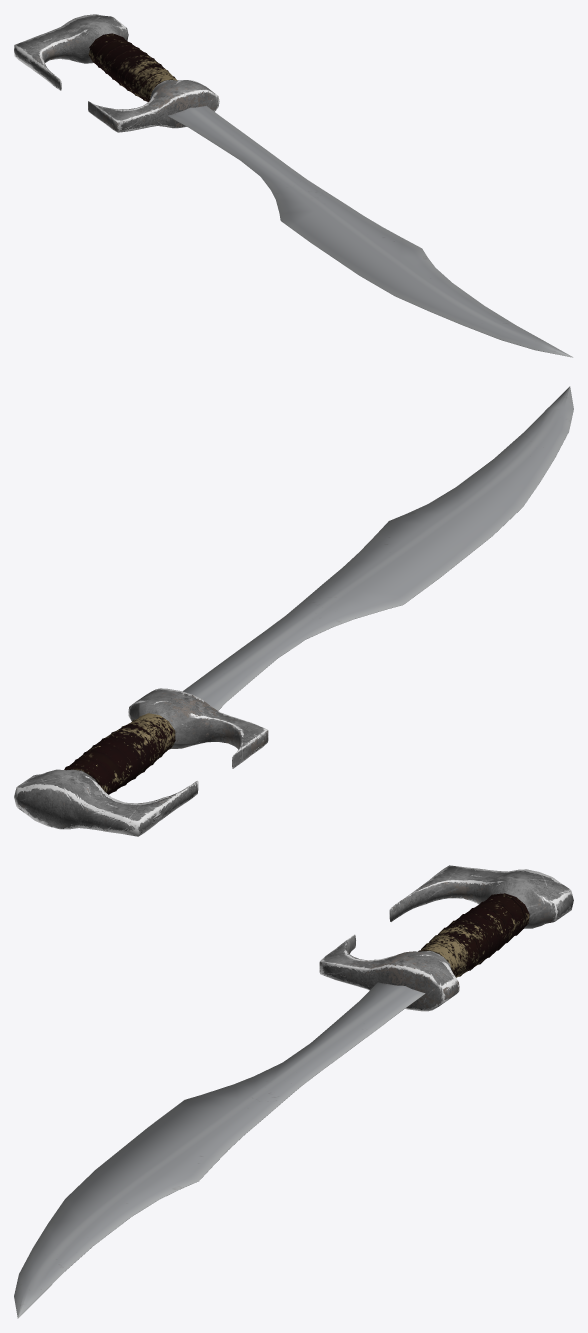
File: swordI.glb
3 renders of one model, top to bottom at view 1: azimuth 30°, elevation 25°; view 2: azimuth 150°, elevation 25°; view 3: azimuth 330°, elevation 25°, orthographic. The views are drawn at different scales.
Visible parts, largest first — view 1: Sword_lp002; view 2: Sword_lp002; view 3: Sword_lp002.
Boxes of the visible parts, x1,y1,x2,y2 form: Sword_lp002: (14,14,573,357); Sword_lp002: (14,386,573,836); Sword_lp002: (14,865,573,1318).
Size of the model in its own units: 0.1486 by 0.0476 by 1.09.
1 material, 1 textured.
